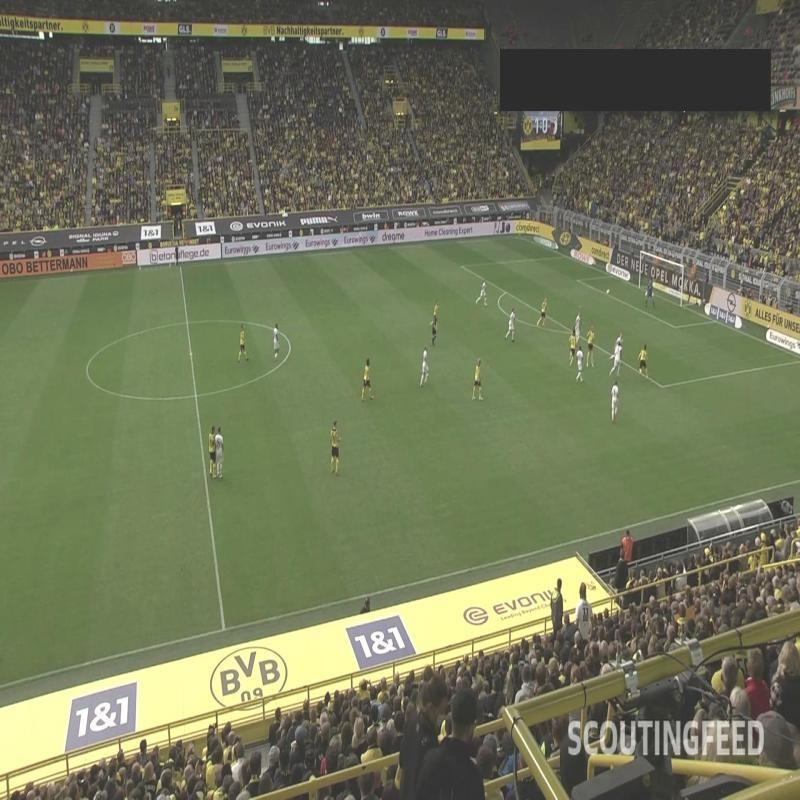1: (511, 231, 526, 244)
10: (499, 286, 513, 299)
11: (567, 326, 581, 340)
12: (654, 380, 668, 394)
13: (174, 259, 188, 273)
14: (180, 316, 194, 330)
15: (189, 388, 203, 402)
16: (216, 620, 233, 638)
2: (559, 250, 573, 264)
3: (605, 270, 619, 284)
4: (707, 313, 722, 327)
7: (570, 273, 585, 287)
8: (665, 320, 679, 334)
9: (454, 259, 468, 273)
c: (282, 336, 296, 350), (81, 362, 93, 378)
